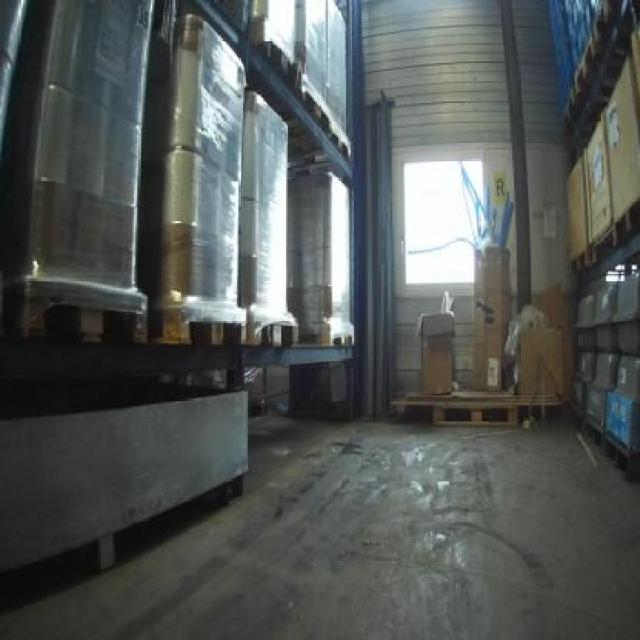pallet: (4, 287, 159, 350), (421, 386, 532, 437), (152, 309, 249, 348), (296, 309, 362, 353), (238, 316, 304, 358)
